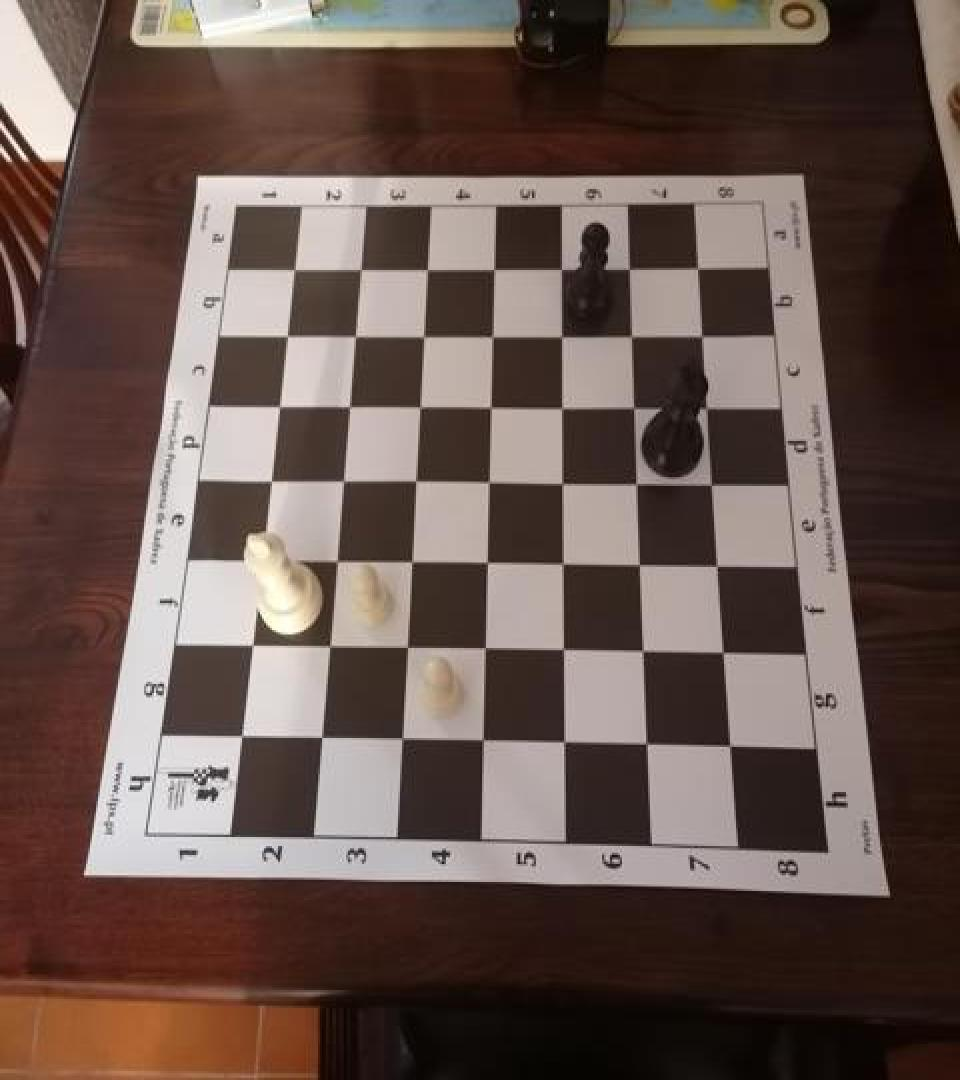xcorner: (410, 252, 438, 284), (344, 252, 372, 284), (278, 253, 306, 285), (687, 317, 715, 349), (615, 317, 643, 349), (545, 317, 573, 349), (475, 318, 503, 350), (406, 318, 434, 350), (338, 318, 366, 350), (270, 318, 298, 350), (692, 389, 720, 421), (618, 389, 646, 421), (546, 389, 574, 421), (474, 389, 502, 421), (402, 389, 430, 421), (332, 389, 360, 421), (262, 389, 290, 421), (253, 463, 281, 495), (703, 549, 731, 581), (318, 544, 346, 576), (244, 543, 272, 575), (547, 634, 575, 666), (468, 633, 496, 665), (389, 632, 417, 664), (311, 630, 339, 662), (716, 732, 744, 764), (631, 730, 659, 762), (548, 729, 576, 761), (384, 724, 412, 756), (303, 722, 331, 754), (223, 720, 251, 752), (682, 250, 710, 281), (613, 250, 641, 281), (545, 251, 573, 282), (477, 251, 505, 282), (697, 467, 725, 498), (621, 466, 649, 497), (546, 466, 574, 497), (472, 465, 500, 496), (398, 465, 426, 496), (325, 465, 353, 496), (624, 548, 652, 579), (547, 547, 575, 578), (470, 547, 498, 578), (394, 546, 422, 577), (709, 638, 737, 669), (628, 636, 656, 667), (234, 629, 262, 660), (465, 727, 493, 758)
